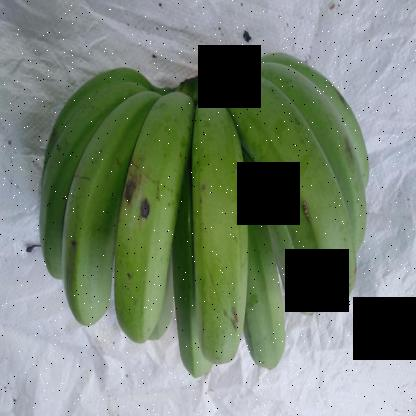unripe: (230, 73, 364, 334), (58, 45, 158, 343), (103, 79, 208, 362), (182, 64, 259, 378)
